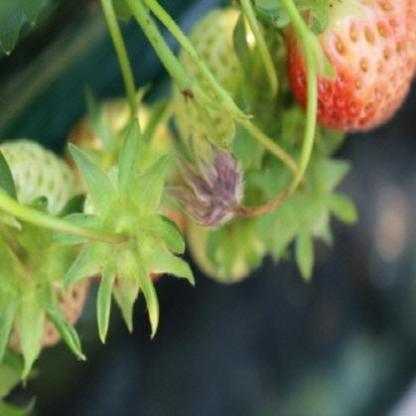Strawberry_Gray_Mold: (162, 140, 252, 229)
